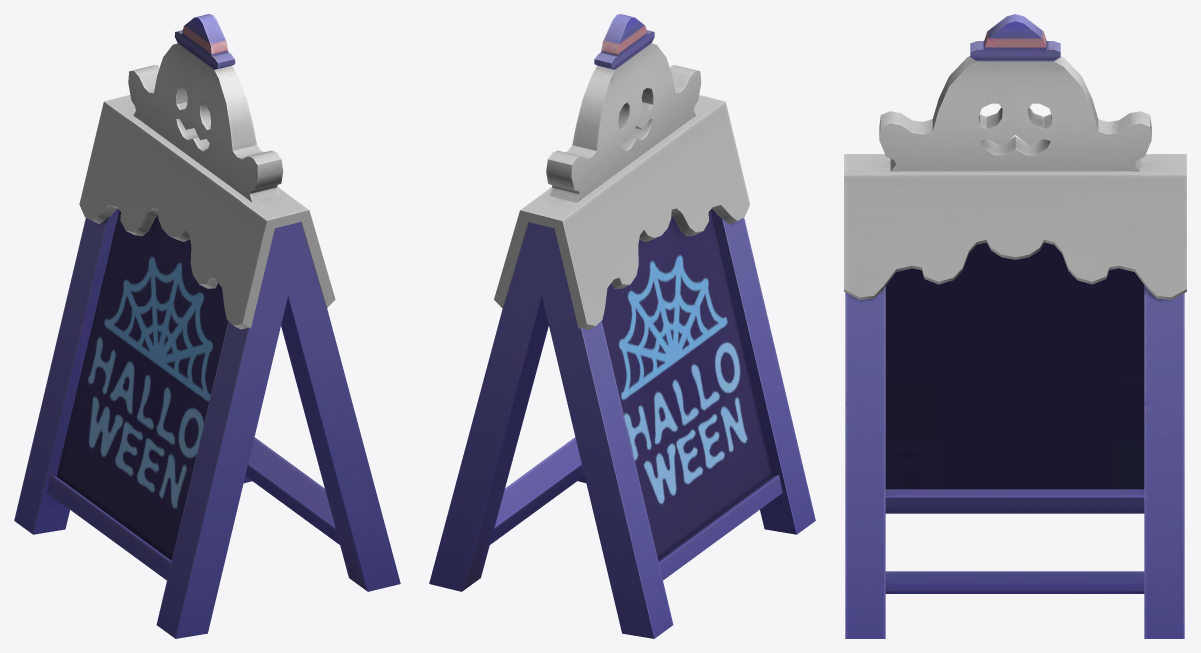
File: my_halloween_01_p_minisign.glb
3 views of the same model, side by side, from view 1: azimuth 30°, elevation 25°; view 2: azimuth 150°, elevation 25°; view 3: azimuth 270°, elevation 25° (orthographic). The views are drawn at different scales.
Visible parts, largest first — view 1: my_halloween_01_p_minisign; view 2: my_halloween_01_p_minisign; view 3: my_halloween_01_p_minisign.
Boxes of the visible parts, box(x1,y1,x2,y2) form: my_halloween_01_p_minisign: box(14, 14, 400, 638); my_halloween_01_p_minisign: box(429, 14, 815, 638); my_halloween_01_p_minisign: box(844, 14, 1186, 638).
Size of the model in its own units: 0.00299 by 0.00684 by 0.00376.
1 material, 1 textured.
